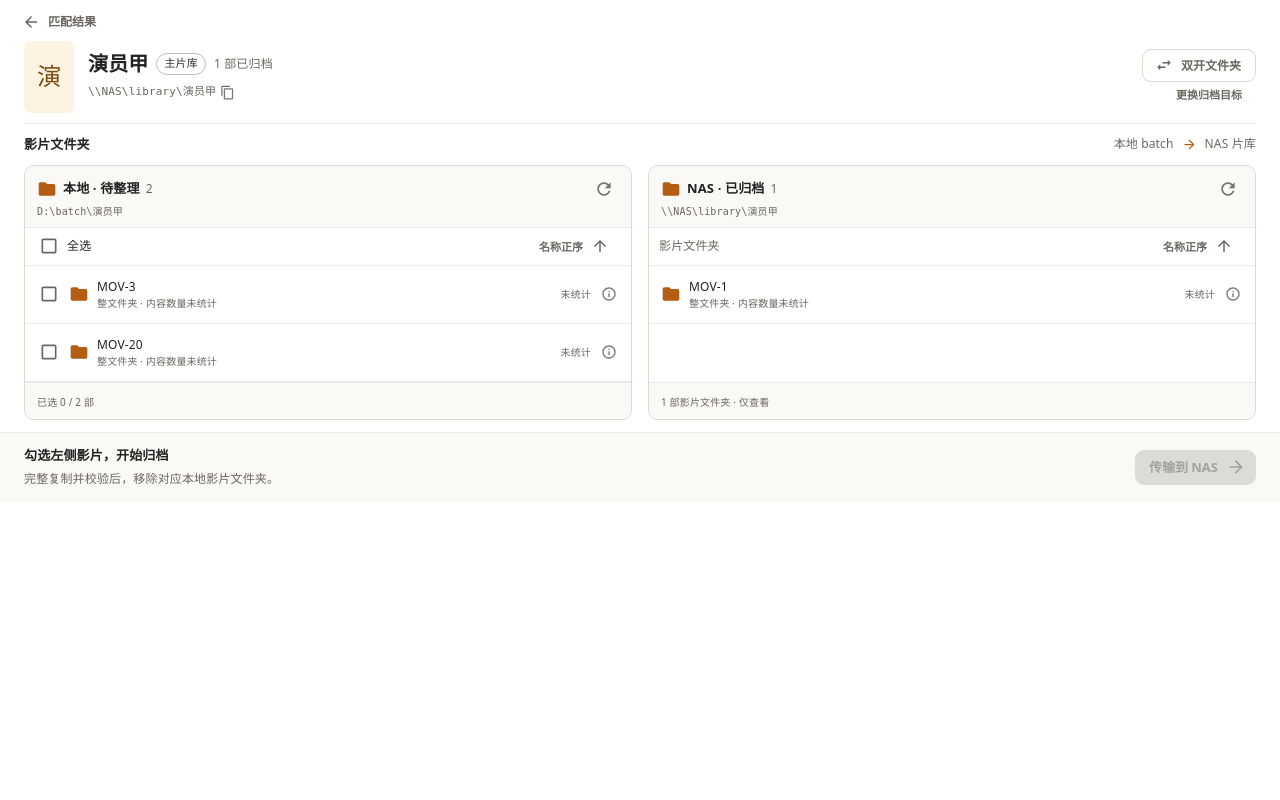
Test: local sidecar transport while the browser is offline › submits locally while offline, reports network uncertainty, and never automatically replays
Click the checkbox named "选择 MOV-3" at x=116, y=287, box 37,277 -> 591,311
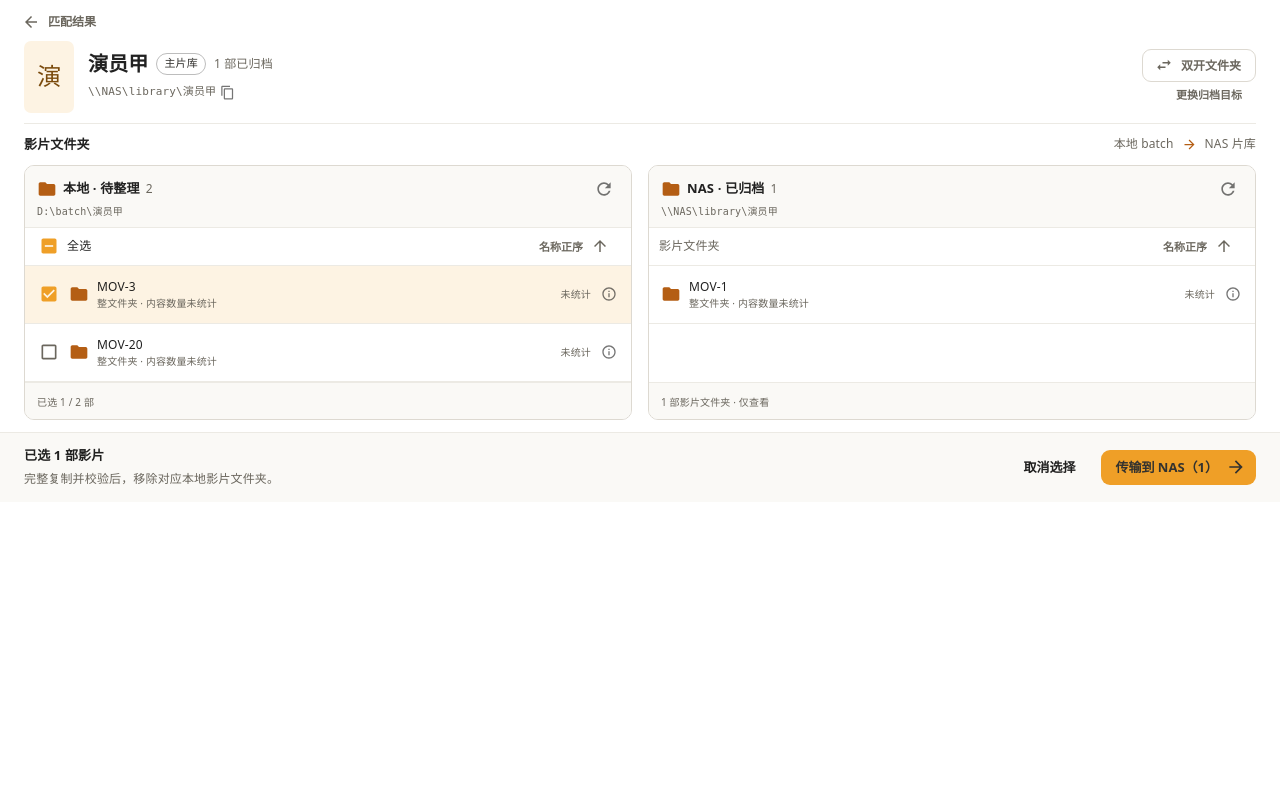
Click the button "传输到 NAS（1）" at x=1179, y=467, box 1102,450 -> 1256,485
Wait 40001 ms
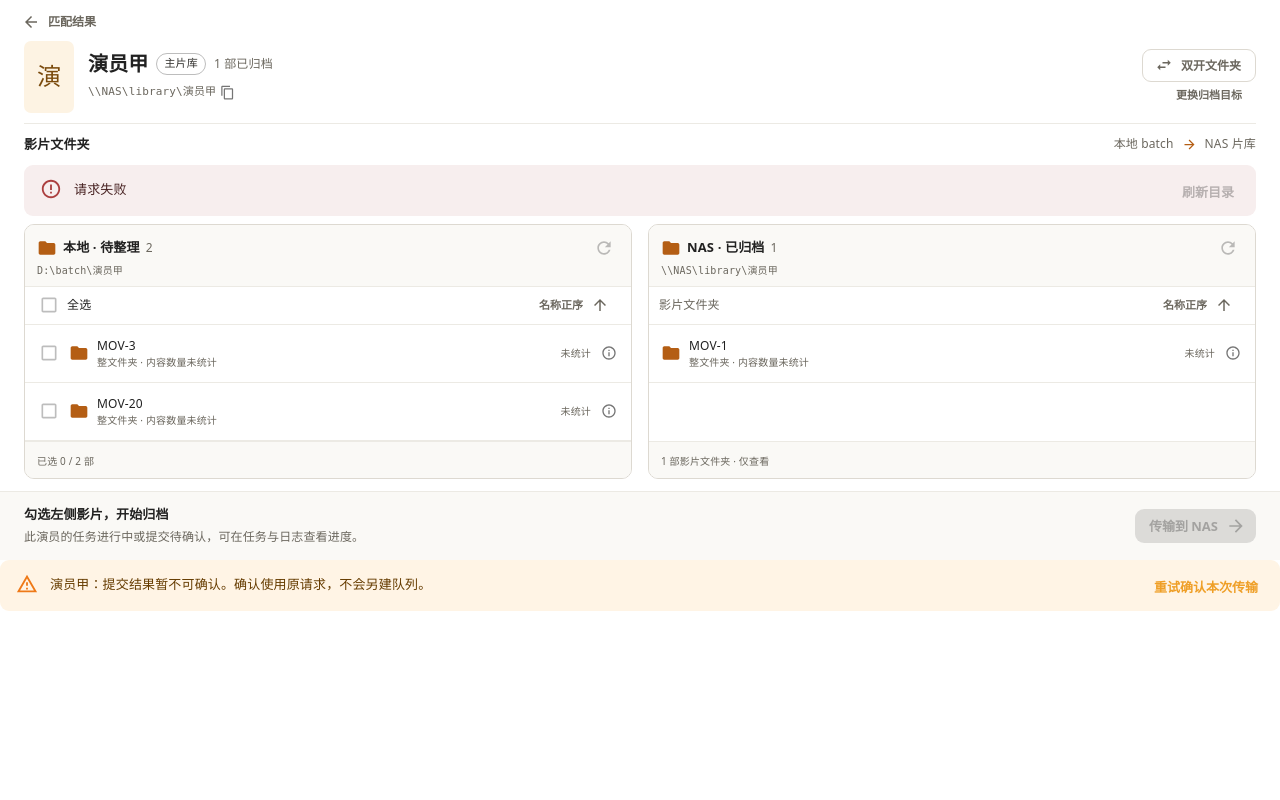
Expected: the button "重试确认本次传输" is shown, 1140,570 -> 1272,605
